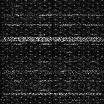lte: (1, 36, 104, 42), (1, 92, 104, 96), (1, 22, 104, 26)
